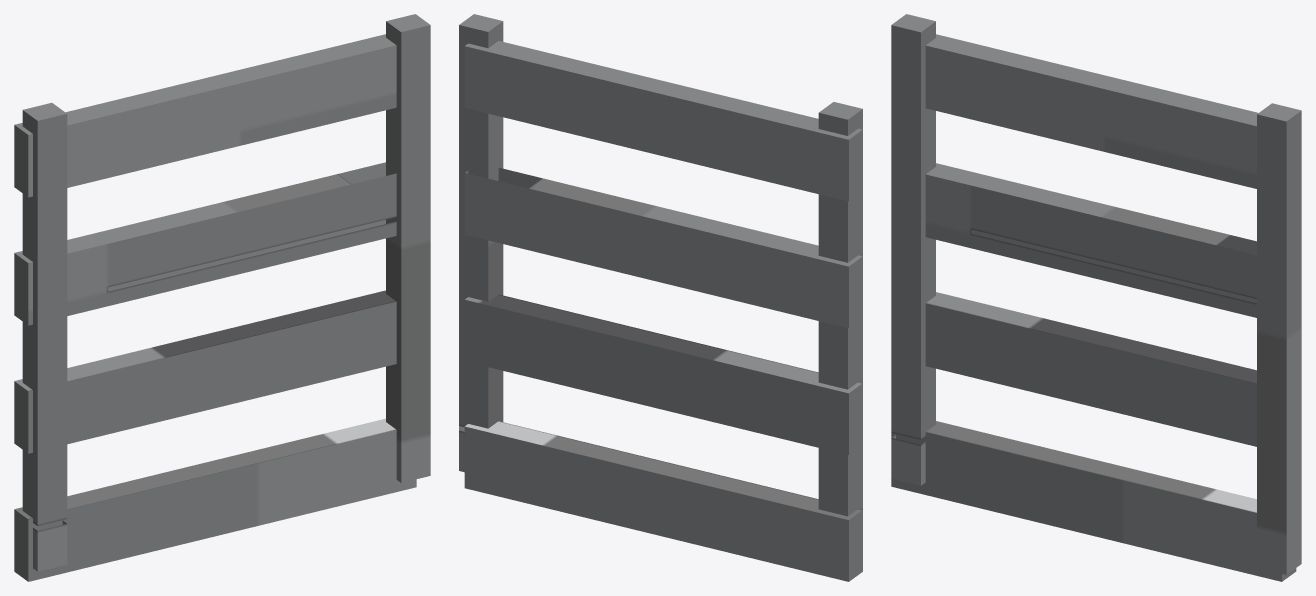
3 renders of one model, left to right at view 1: azimuth 30°, elevation 25°; view 2: azimuth 150°, elevation 25°; view 3: azimuth 330°, elevation 25°, orthographic.
Size of the model in its own units: 0.8611 by 0.9588 by 0.0705.
